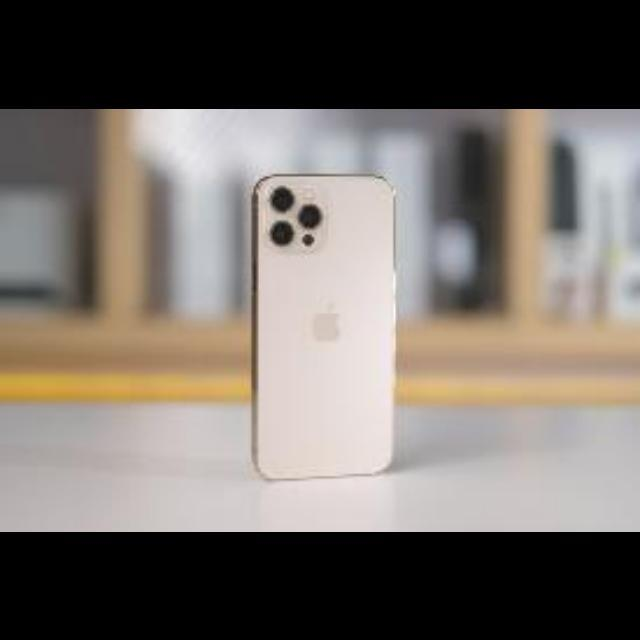Phone: (252, 174, 400, 481)
